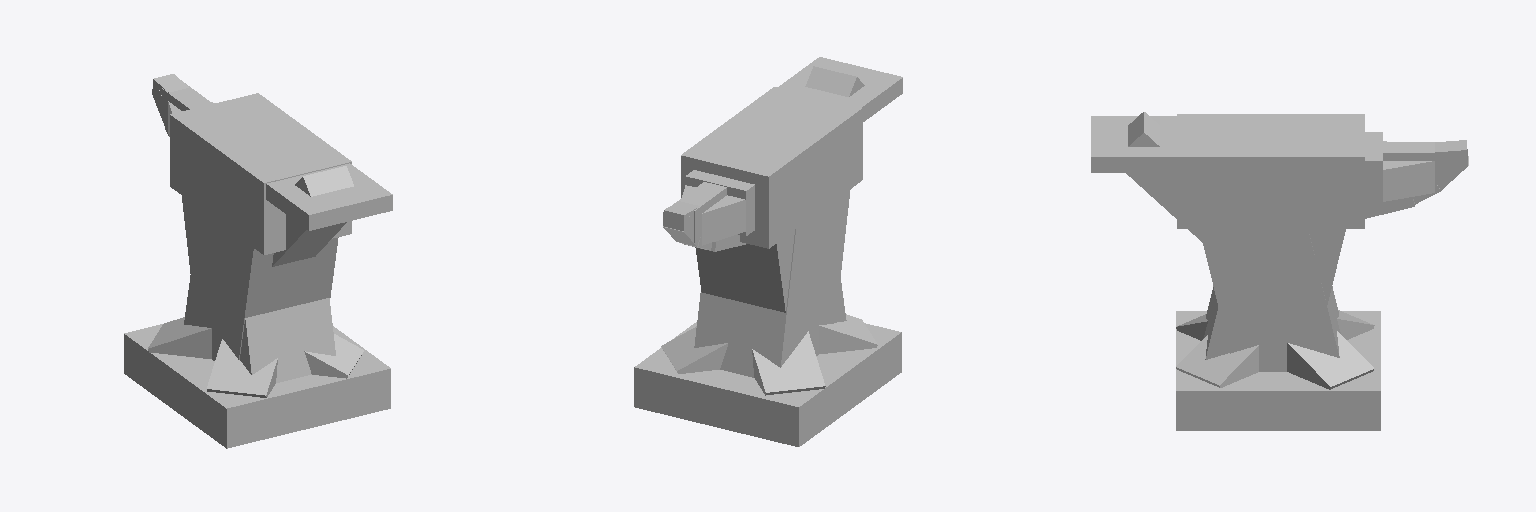
Rendered from anvil.obj.
The picture shows the model from 3 angles: view 1: azimuth 30°, elevation 25°; view 2: azimuth 150°, elevation 25°; view 3: azimuth 270°, elevation 25°; orthographic projection.
Visible parts, largest first — view 1: cube.017, cube.018, cube.026, cube.027, cube.019, cube.022, cube.034, cube.032, cube.033, cube.021; view 2: cube.017, cube.018, cube.026, cube.027, cube.019, cube.032, cube.031, cube.023, cube.034, cube.029, cube.022, cube.021 (+1 smaller); view 3: cube.017, cube.026, cube.018, cube.019, cube.031, cube.027, cube.033, cube.022, cube.024, cube.021, cube.029, cube.032 (+1 smaller).
Boxes of the visible parts, x1,y1,x2,y2 form: cube.017: [170, 93, 351, 254]; cube.018: [124, 324, 390, 448]; cube.026: [184, 208, 338, 360]; cube.027: [182, 196, 335, 382]; cube.019: [266, 163, 392, 230]; cube.022: [272, 166, 353, 266]; cube.034: [207, 339, 277, 397]; cube.032: [148, 317, 211, 358]; cube.033: [304, 334, 363, 378]; cube.021: [162, 83, 212, 123]; cube.017: [681, 87, 862, 248]; cube.018: [634, 322, 901, 446]; cube.026: [694, 189, 850, 377]; cube.027: [695, 230, 846, 322]; cube.019: [779, 57, 902, 121]; cube.032: [752, 331, 825, 395]; cube.031: [661, 326, 727, 373]; cube.023: [702, 195, 745, 245]; cube.034: [819, 314, 877, 353]; cube.029: [685, 170, 754, 235]; cube.022: [805, 66, 864, 96]; cube.021: [674, 182, 726, 242]; cube.017: [1177, 114, 1364, 228]; cube.026: [1200, 229, 1340, 371]; cube.018: [1176, 311, 1380, 430]; cube.019: [1091, 116, 1176, 172]; cube.031: [1287, 331, 1373, 389]; cube.027: [1203, 229, 1345, 359]; cube.033: [1176, 335, 1258, 387]; cube.022: [1126, 112, 1202, 242]; cube.024: [1383, 161, 1434, 201]; cube.021: [1383, 142, 1446, 184]; cube.029: [1365, 132, 1382, 206]; cube.032: [1337, 310, 1374, 339].
Size of the model in its own units: 0.6778 by 1.05 by 1.33.